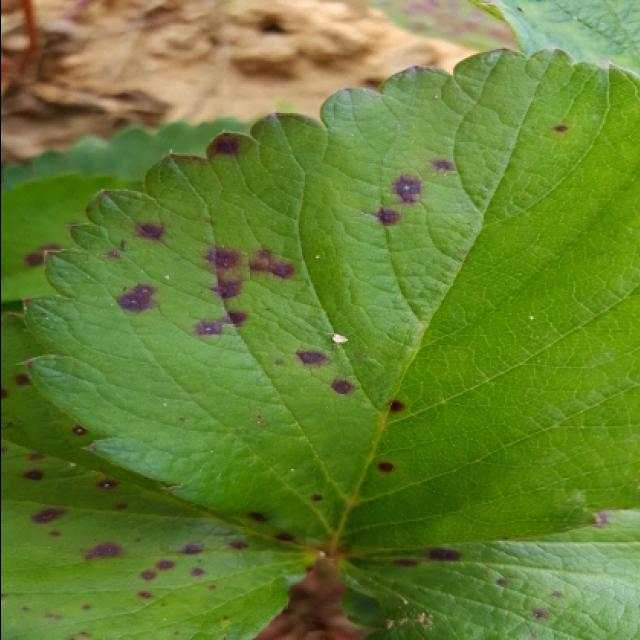Leaf Spot: (17, 46, 640, 552), (2, 305, 324, 640), (2, 114, 244, 304), (339, 510, 640, 640)
